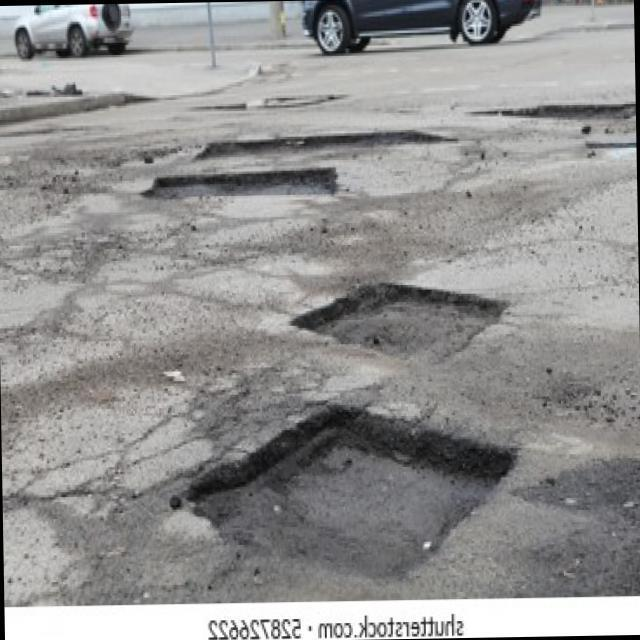pothole: (188, 394, 522, 582), (293, 276, 512, 369), (194, 126, 457, 160), (142, 165, 344, 203), (470, 99, 637, 121), (583, 138, 637, 151)
